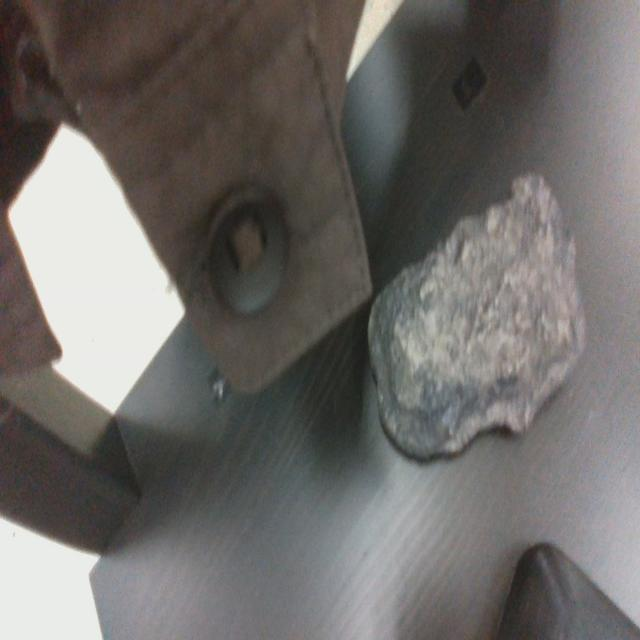stone: (367, 171, 589, 463)
